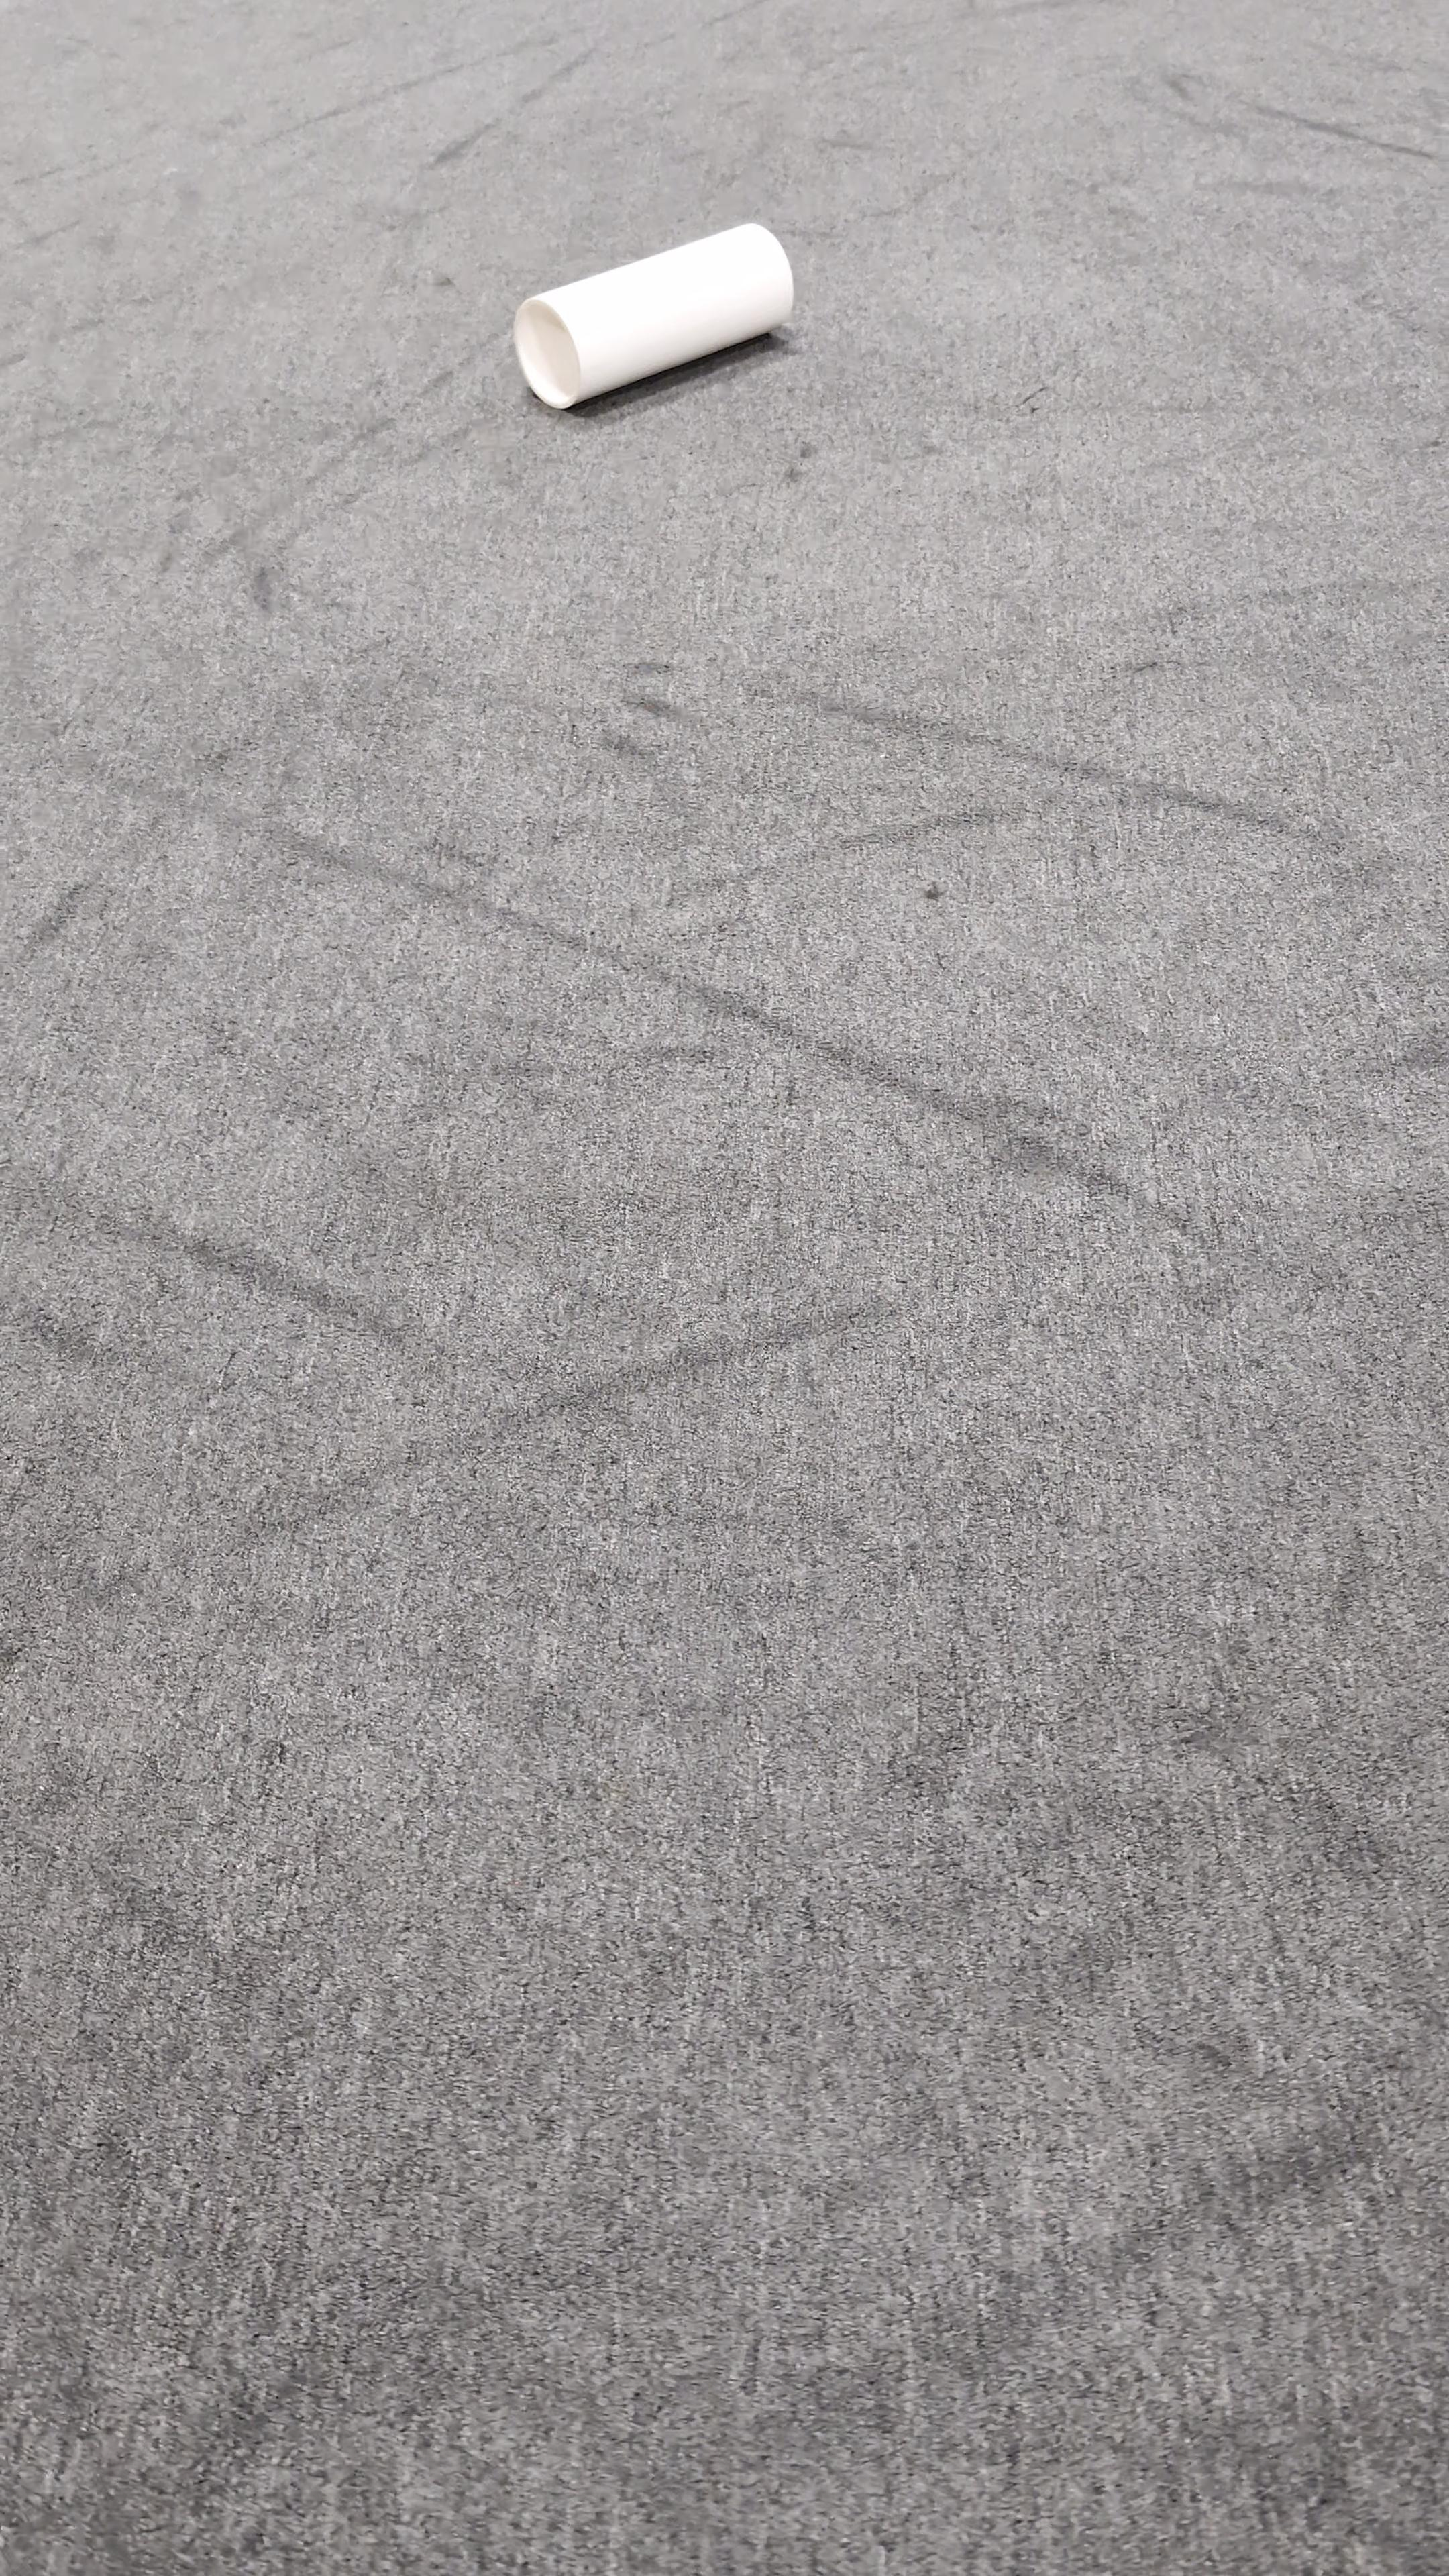coral: (511, 218, 796, 410)
